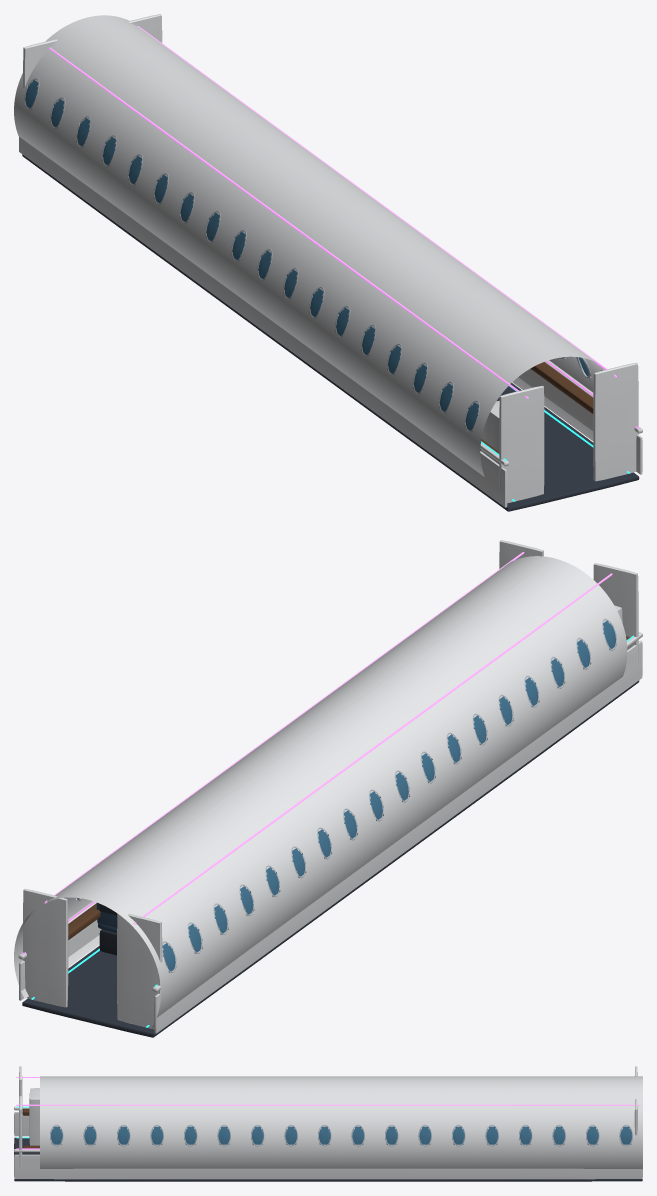
File: gulfstream-g650er.glb
The picture shows the model from 3 angles, top to bottom: view 1: azimuth 30°, elevation 25°; view 2: azimuth 150°, elevation 25°; view 3: azimuth 270°, elevation 25°; orthographic projection. The views are drawn at different scales.
Parts seen in each view (by area): view 1: Lower sidewall -1, Carpet floor, Bulkhead right, Bulkhead left, Cabin wall bay -1 17, Cabin wall bay -1 16, Cabin wall bay -1 1, Cabin wall bay -1 7, Cabin wall bay -1 8, Cabin wall bay -1 2, Cabin wall bay -1 6, Cabin wall bay -1 3 (+32 smaller); view 2: Lower sidewall -1, Bulkhead left (×2), Carpet floor, Bulkhead right, Cabin wall bay -1 1, Cabin wall bay -1 16, Cabin wall bay -1 17, Cabin wall bay -1 2, Cabin wall bay -1 15, Cabin wall bay -1 5, Cabin wall bay -1 11, Cabin wall bay -1 14 (+31 smaller); view 3: Lower sidewall 1, Cabin wall bay 1 1, Cabin wall bay 1 3, Cabin wall bay 1 5, Cabin wall bay 1 7, Cabin wall bay 1 9, Cabin wall bay 1 11, Cabin wall bay 1 16, Cabin wall bay 1 6, Cabin wall bay 1 8, Cabin wall bay 1 10, Cabin wall bay 1 12 (+39 smaller).
Boxes of the visible parts, x1=… form: Lower sidewall -1: x1=19, y1=137, x2=507, y2=507; Carpet floor: x1=22, y1=154, x2=639, y2=511; Bulkhead right: x1=593, y1=362, x2=638, y2=481; Bulkhead left: x1=499, y1=385, x2=544, y2=503; Cabin wall bay -1 17: x1=454, y1=340, x2=553, y2=476; Cabin wall bay -1 16: x1=428, y1=321, x2=527, y2=457; Cabin wall bay -1 1: x1=40, y1=36, x2=138, y2=172; Cabin wall bay -1 7: x1=195, y1=150, x2=294, y2=286; Cabin wall bay -1 8: x1=221, y1=169, x2=320, y2=305; Cabin wall bay -1 2: x1=65, y1=55, x2=164, y2=191; Cabin wall bay -1 6: x1=169, y1=131, x2=268, y2=267; Cabin wall bay -1 3: x1=91, y1=74, x2=190, y2=210; Lower sidewall -1: x1=154, y1=640, x2=642, y2=1033; Bulkhead left (×2): x1=117, y1=563, x2=638, y2=1029; Carpet floor: x1=22, y1=663, x2=639, y2=1037; Bulkhead right: x1=23, y1=889, x2=68, y2=1007; Cabin wall bay -1 1: x1=114, y1=861, x2=212, y2=998; Cabin wall bay -1 16: x1=502, y1=577, x2=601, y2=713; Cabin wall bay -1 17: x1=528, y1=558, x2=627, y2=694; Cabin wall bay -1 2: x1=140, y1=842, x2=238, y2=979; Cabin wall bay -1 15: x1=476, y1=596, x2=575, y2=732; Cabin wall bay -1 5: x1=217, y1=786, x2=316, y2=921; Cabin wall bay -1 11: x1=373, y1=672, x2=471, y2=808; Cabin wall bay -1 14: x1=451, y1=615, x2=549, y2=751; Lower sidewall 1: x1=14, y1=1154, x2=642, y2=1179; Cabin wall bay 1 1: x1=576, y1=1081, x2=609, y2=1168; Cabin wall bay 1 3: x1=509, y1=1081, x2=542, y2=1168; Cabin wall bay 1 5: x1=442, y1=1081, x2=475, y2=1168; Cabin wall bay 1 7: x1=375, y1=1081, x2=408, y2=1168; Cabin wall bay 1 9: x1=308, y1=1081, x2=341, y2=1168; Cabin wall bay 1 11: x1=241, y1=1081, x2=274, y2=1168; Cabin wall bay 1 16: x1=73, y1=1081, x2=106, y2=1168; Cabin wall bay 1 6: x1=408, y1=1081, x2=441, y2=1168; Cabin wall bay 1 8: x1=341, y1=1081, x2=374, y2=1168; Cabin wall bay 1 10: x1=274, y1=1081, x2=307, y2=1168; Cabin wall bay 1 12: x1=207, y1=1081, x2=240, y2=1168.
Bounding box in the file's own units: 2.49 × 2 × 14.27.
